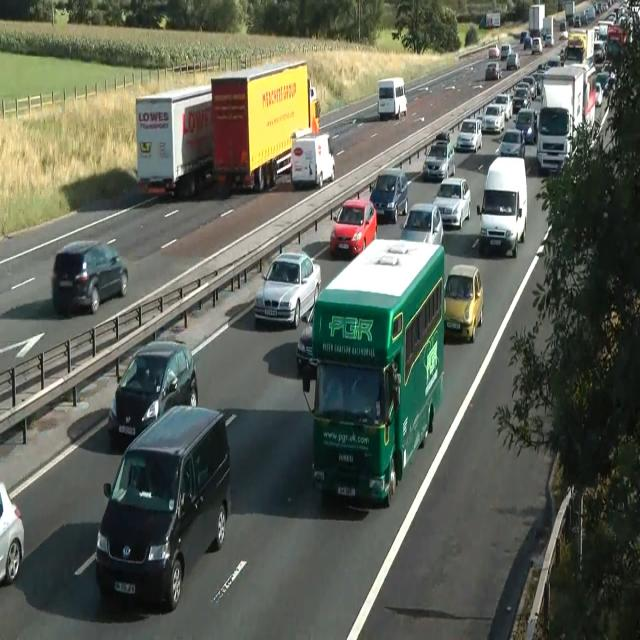bus: (106, 340, 198, 446), (52, 239, 128, 317), (253, 251, 321, 328), (443, 263, 483, 342), (329, 197, 377, 258), (0, 482, 24, 585), (433, 177, 471, 229), (399, 203, 444, 245), (296, 303, 318, 373), (421, 140, 455, 180), (494, 128, 526, 158), (456, 118, 482, 152), (511, 84, 531, 113), (492, 92, 512, 120), (485, 60, 502, 81), (506, 52, 520, 70), (530, 36, 542, 54), (595, 81, 603, 107), (436, 130, 450, 142), (488, 46, 500, 60), (500, 44, 510, 60), (544, 34, 554, 46)
car: (297, 236, 445, 507)
jeep: (95, 402, 232, 612), (476, 155, 528, 257), (536, 105, 571, 173), (369, 168, 409, 222), (478, 103, 504, 133)
minibus: (211, 59, 320, 193), (135, 84, 214, 199), (536, 61, 597, 175), (290, 129, 335, 187), (377, 77, 407, 119), (529, 3, 545, 38), (478, 10, 501, 28)
